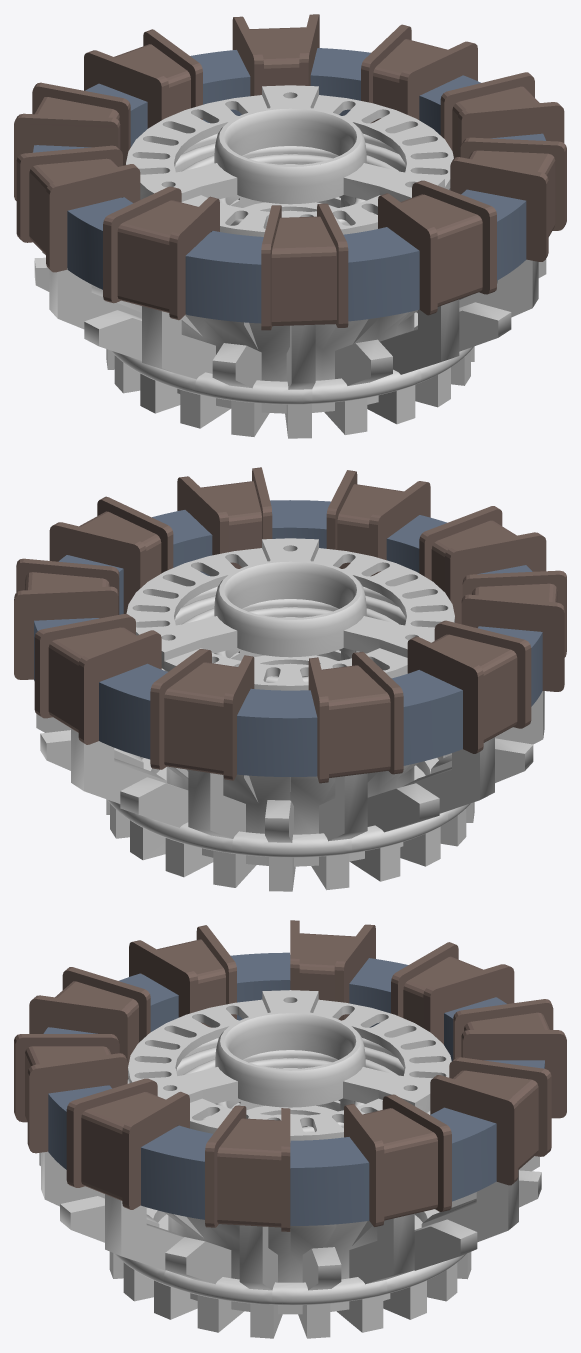
File: arc.glb
3 renders of one model, top to bottom at view 1: azimuth 30°, elevation 25°; view 2: azimuth 150°, elevation 25°; view 3: azimuth 270°, elevation 25°, orthographic.
Visible parts, largest first — view 1: on, base, ring; view 2: on, base, ring; view 3: on, base, ring.
Part boxes in pixels (x1=…): on: x1=14, y1=14, x2=566, y2=330; base: x1=34, y1=85, x2=546, y2=438; ring: x1=33, y1=48, x2=545, y2=323; on: x1=14, y1=467, x2=566, y2=783; base: x1=36, y1=538, x2=544, y2=891; ring: x1=34, y1=500, x2=542, y2=776; on: x1=14, y1=920, x2=566, y2=1231; base: x1=39, y1=990, x2=541, y2=1338; ring: x1=43, y1=952, x2=544, y2=1225.
Size of the model in its own units: 117 by 53.65 by 118.
